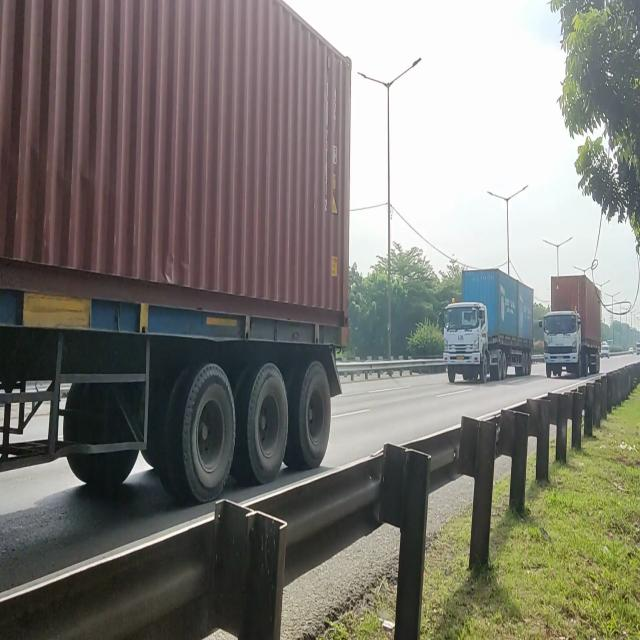Golongan V: (440, 263, 534, 387)
